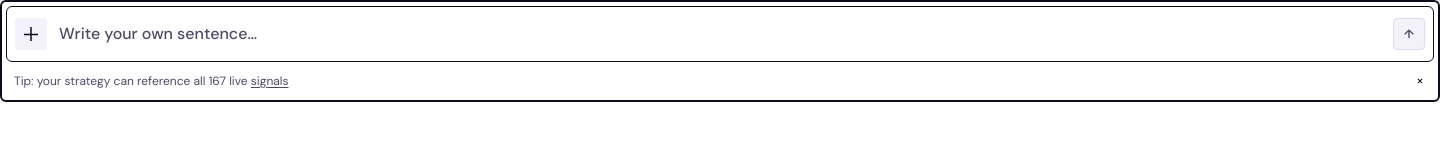
StrategyComposer › exposes accessible context and tip controls
The image size is (1440, 160).
Click the button named "Add strategy context" at (31, 34), box [15,18,47,50]
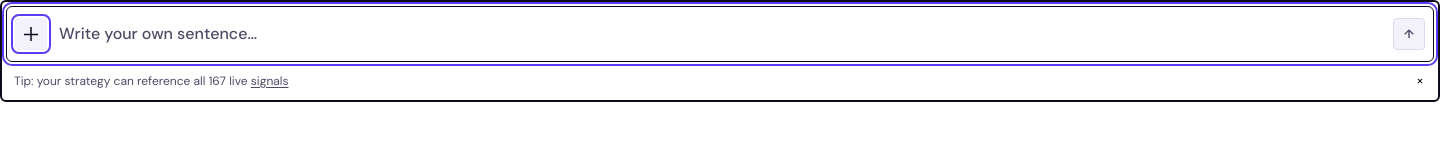
Click the button named "Dismiss strategy tip" at (1420, 81), box [1414,75,1426,87]
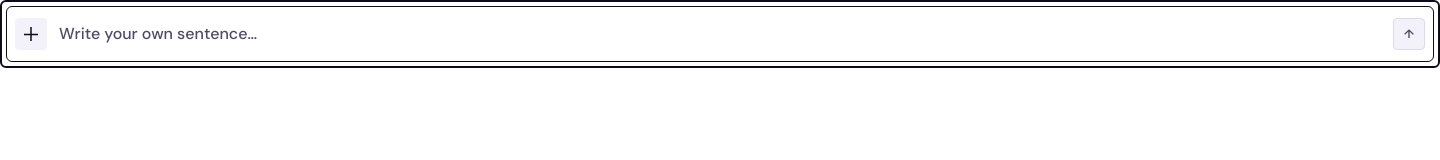
Expected: the link "signals" is gone
